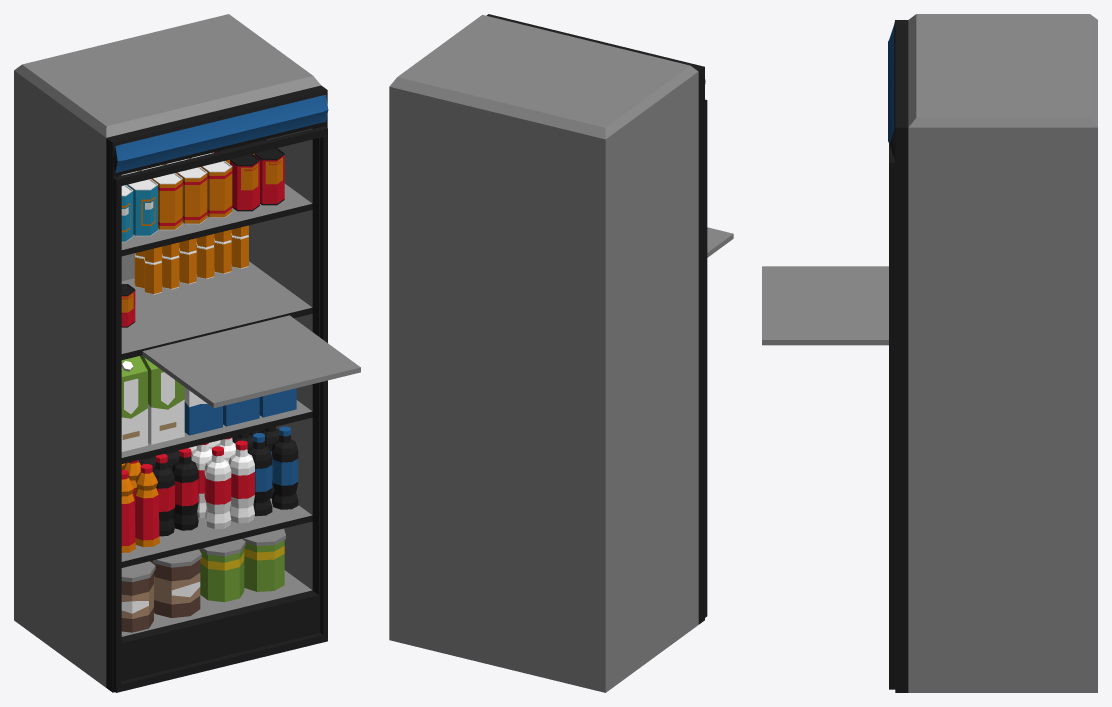
Rendered from SM_fridge_game_01.fbx.
3 views of the same model, side by side, from view 1: azimuth 30°, elevation 25°; view 2: azimuth 150°, elevation 25°; view 3: azimuth 270°, elevation 25° (orthographic). The views are drawn at different scales.
Parts seen in each view (by area): view 1: SM_fridge_game_01; view 2: SM_fridge_game_01; view 3: SM_fridge_game_01.
Boxes of the visible parts, left/top/right/bottom form: SM_fridge_game_01: left=14, top=14, right=360, bottom=692; SM_fridge_game_01: left=389, top=14, right=733, bottom=692; SM_fridge_game_01: left=762, top=14, right=1097, bottom=692.
Size of the model in its own units: 100 by 248 by 132.
